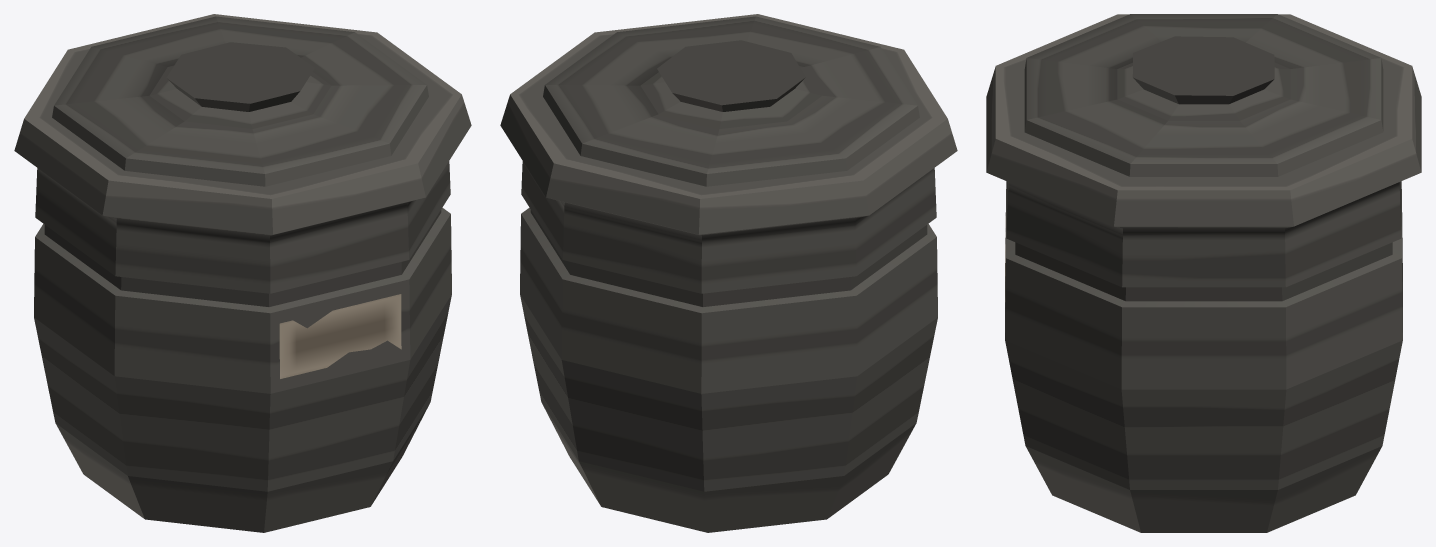
The model's file is SM_Prop_Urn_02.fbx.
3 views of the same model, side by side, from view 1: azimuth 30°, elevation 25°; view 2: azimuth 150°, elevation 25°; view 3: azimuth 270°, elevation 25° (orthographic). The views are drawn at different scales.
Parts seen in each view (by area): view 1: SM_Prop_Urn_02; view 2: SM_Prop_Urn_02; view 3: SM_Prop_Urn_02.
Boxes of the visible parts, x1,y1,x2,y2 form: SM_Prop_Urn_02: [14, 14, 471, 532]; SM_Prop_Urn_02: [500, 14, 957, 532]; SM_Prop_Urn_02: [986, 14, 1421, 532].
Size of the model in its own units: 30.72 by 31.36 by 30.72.
1 material, 1 textured.
